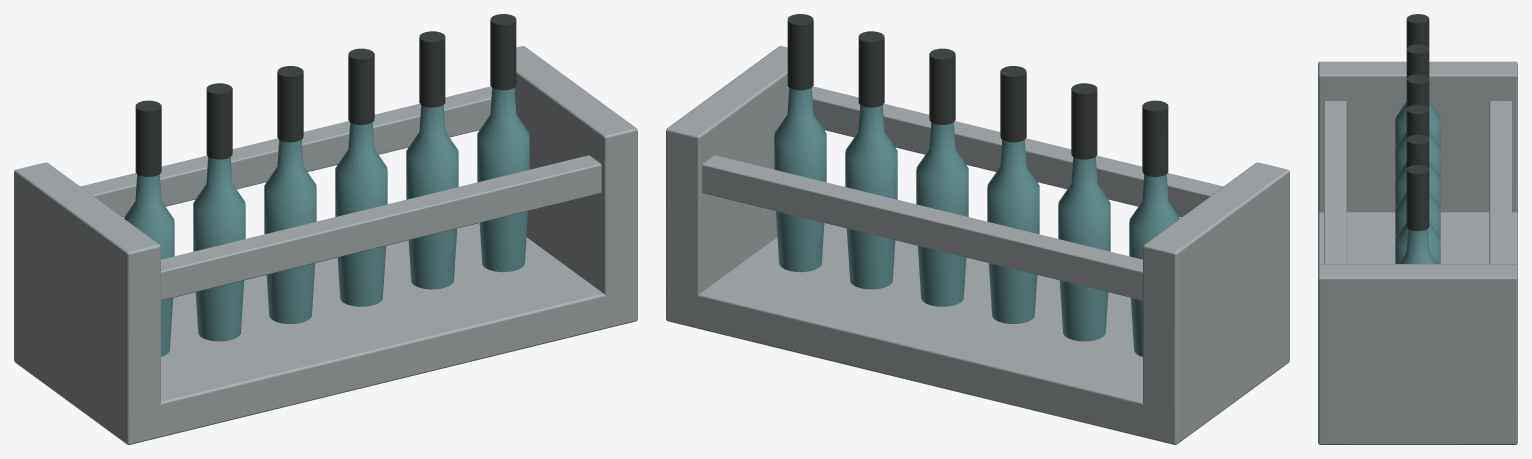
The model's file is field-medicine-and-recovery-ampoule-rack-ab1ec385__3057.glb.
The picture shows the model from 3 angles, left to right: view 1: azimuth 30°, elevation 25°; view 2: azimuth 150°, elevation 25°; view 3: azimuth 270°, elevation 25°; orthographic projection. The views are drawn at different scales.
Parts seen in each view (by area): view 1: ampoule-rack; view 2: ampoule-rack; view 3: ampoule-rack.
Boxes of the visible parts, x1,y1,x2,y2 form: ampoule-rack: (14,14,637,444); ampoule-rack: (666,14,1289,444); ampoule-rack: (1318,14,1517,444).
Size of the model in its own units: 0.18 by 0.094 by 0.07.
